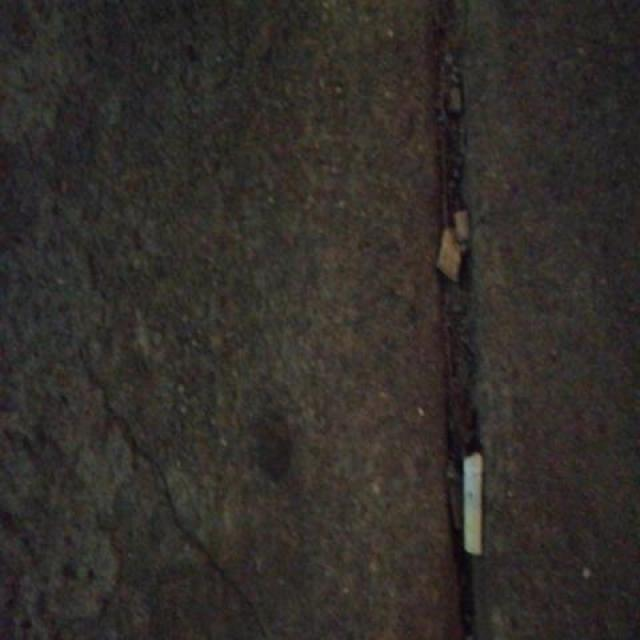non-organic waste: (460, 449, 484, 560)
